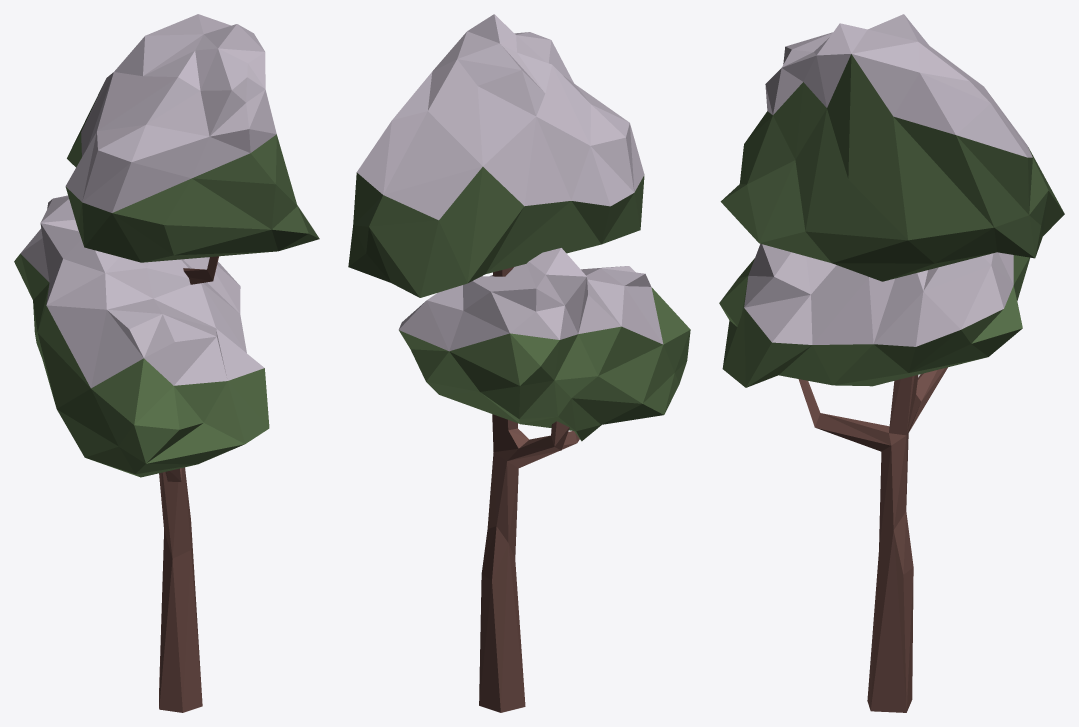
Rendered from CommonTree_Snow_3.lod2.glb.
3 renders of one model, left to right at view 1: azimuth 30°, elevation 25°; view 2: azimuth 150°, elevation 25°; view 3: azimuth 270°, elevation 25°, orthographic. The views are drawn at different scales.
Visible parts, largest first — view 1: CommonTree_Snow_3; view 2: CommonTree_Snow_3; view 3: CommonTree_Snow_3.
Part boxes in pixels (box(x1,y1,x2,y2)): CommonTree_Snow_3: box(14, 14, 319, 712); CommonTree_Snow_3: box(348, 14, 690, 712); CommonTree_Snow_3: box(719, 14, 1064, 712).
Bounding box in the file's own units: 1.27 × 3.47 × 1.56.
